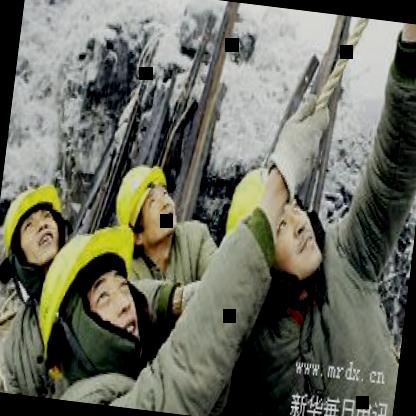helmet: (28, 215, 160, 374), (216, 157, 332, 282), (0, 176, 68, 273), (108, 162, 184, 246)
